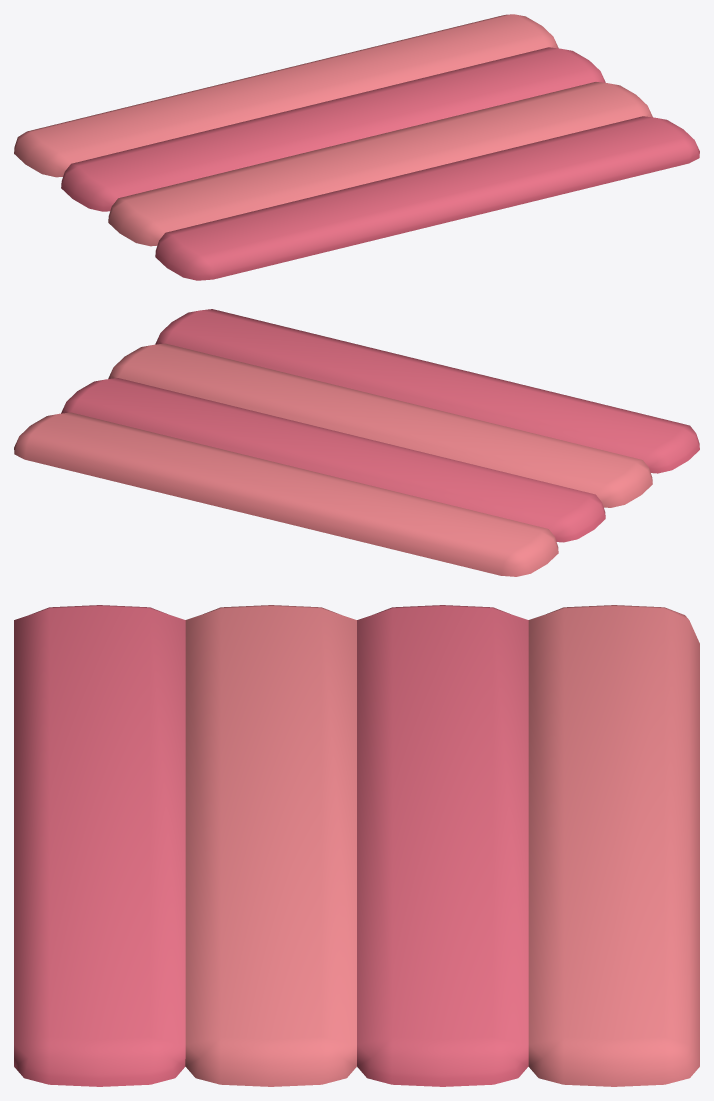
Rendered from Bath_Prop_26.glb.
3 renders of one model, top to bottom at view 1: azimuth 30°, elevation 25°; view 2: azimuth 150°, elevation 25°; view 3: azimuth 270°, elevation 25°, orthographic. The views are drawn at different scales.
Parts seen in each view (by area): view 1: Bath_Prop_26; view 2: Bath_Prop_26; view 3: Bath_Prop_26.
Boxes of the visible parts, left/top/right/bottom form: Bath_Prop_26: left=14, top=14, right=699, bottom=280; Bath_Prop_26: left=14, top=309, right=699, bottom=576; Bath_Prop_26: left=14, top=605, right=699, bottom=1086.
Size of the model in its own units: 0.7674 by 0.025 by 0.48.
Materials: 1 (1 with a texture image).
